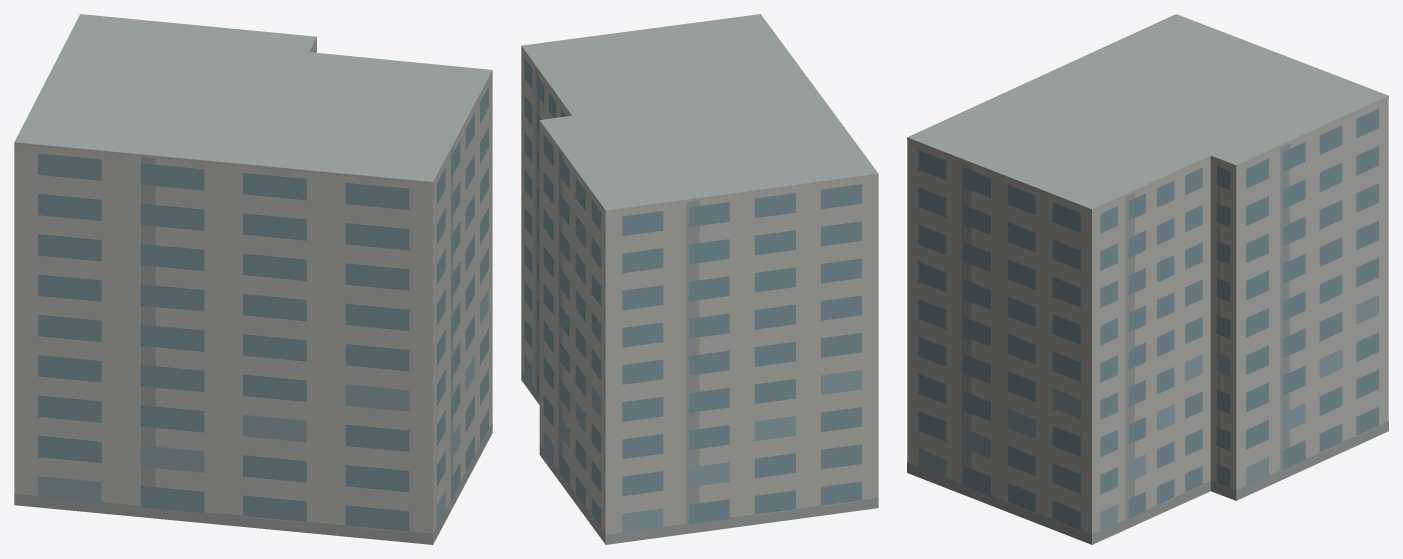
The model's file is survey-upis-32515314.glb.
3 renders of one model, left to right at view 1: azimuth 30°, elevation 25°; view 2: azimuth 150°, elevation 25°; view 3: azimuth 270°, elevation 25°, orthographic. The views are drawn at different scales.
Parts seen in each view (by area): view 1: survey-upis-32515314.tmp; view 2: survey-upis-32515314.tmp; view 3: survey-upis-32515314.tmp.
Part boxes in pixels (box(x1,y1,x2,y2)): survey-upis-32515314.tmp: box(14, 14, 492, 544); survey-upis-32515314.tmp: box(521, 14, 878, 544); survey-upis-32515314.tmp: box(907, 14, 1388, 544).
Bounding box in the file's own units: 39.71 × 31.8 × 41.38.
